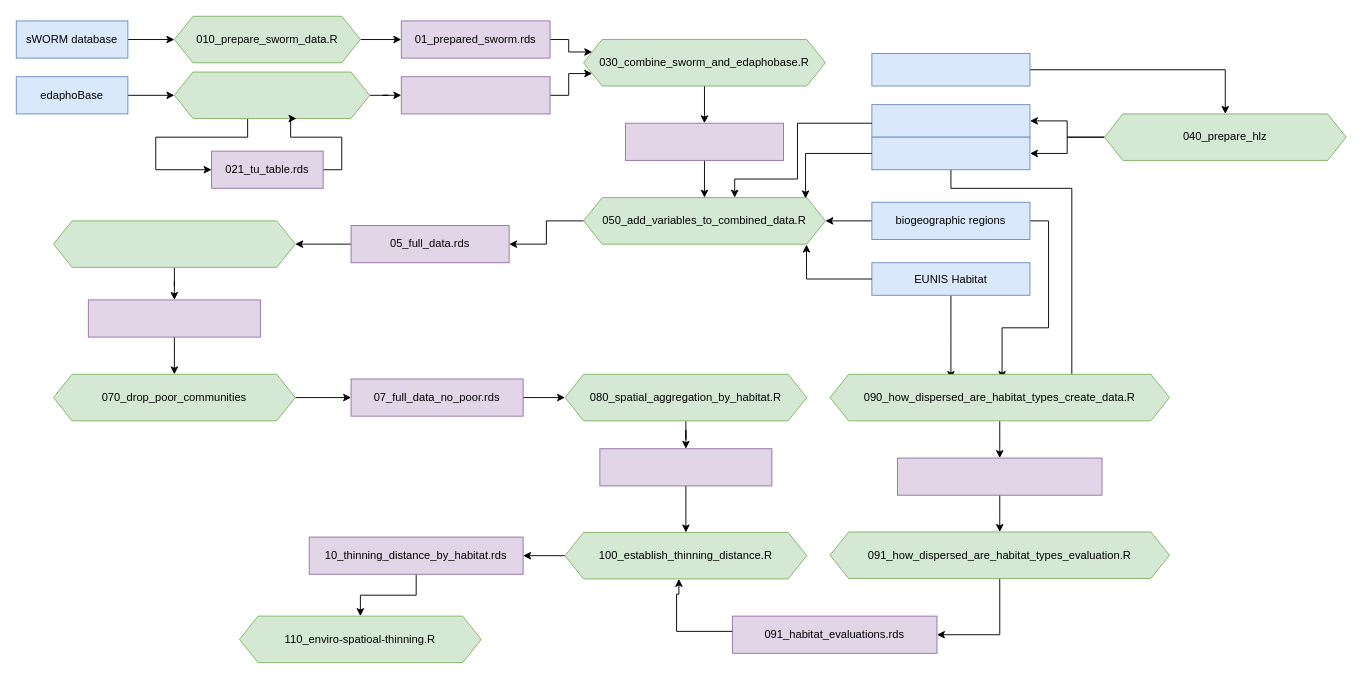
Image size: 1362x679. Some labels were removed from this diagram. The shapes that lost their labels are listed below. From the top down, each one's centre as x and y in pixels, then its label:
the point at 950,69: WorldClim 2
the point at 271,95: 020_prepare_edaphobase.R
the point at 475,95: 02_prepared_edapho.rds
the point at 950,120: Biotemperature
the point at 704,141: 03_full_data_incomplete.rds
the point at 950,153: Holdrige Life Zone
the point at 174,243: 060_compare_against_drillo_base.R.R
the point at 173,318: 06_full_data_taxa_checked.rds
the point at 685,467: k_statistic.rds
the point at 999,476: 090_habitat_reference_points.rds
